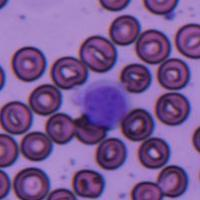L: (77, 80, 132, 128)
